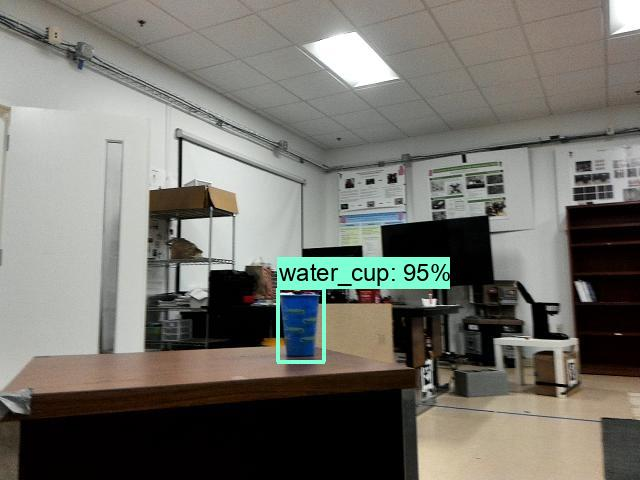water_cup: (277, 292, 326, 360)
